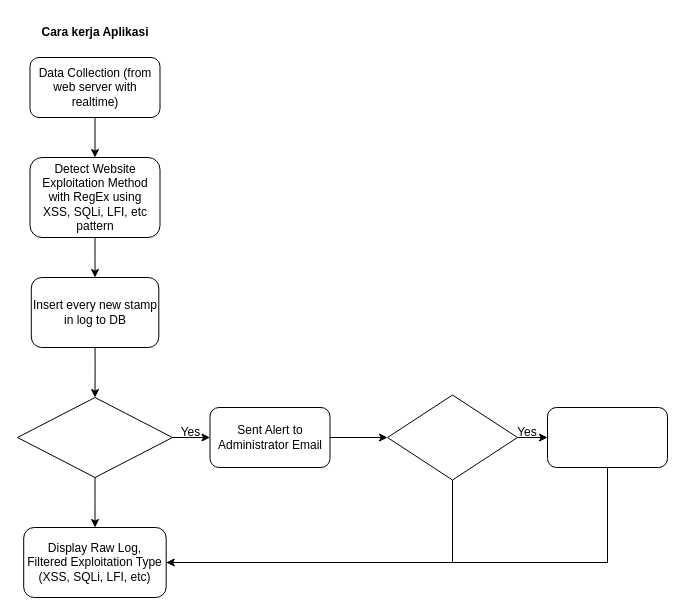
Some shapes in this 685 by 615 pixel diagram are drawn without their labels. The shapes that lost their labels are listed below. From the top down, each one's centre as x and y in pixels, then its label:
point (94, 437): System Alert is On?
point (452, 437): Insert IP to Blacklist in DB on ?
point (607, 437): Insert IP to Blacklist DB
